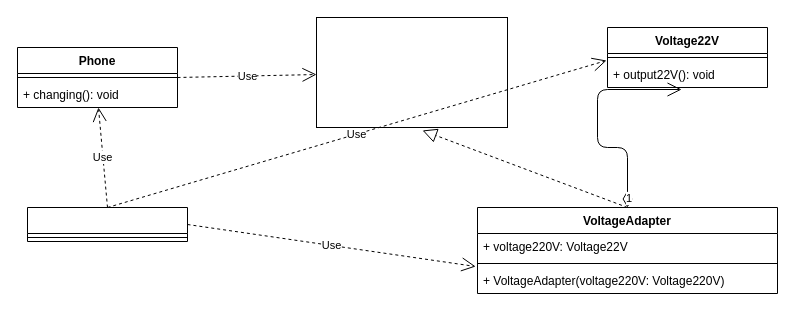
The diagram is 795 pixels wide and 314 high, and some of its shapes have lost their labels. The shapes that lost their labels are listed below. From the top down, each one's centre as x and y in pixels, then its label:
At (x=412, y=72): "<<Interface>> IVoltage5V + output5V(): void".
At (x=107, y=224): "Client".
